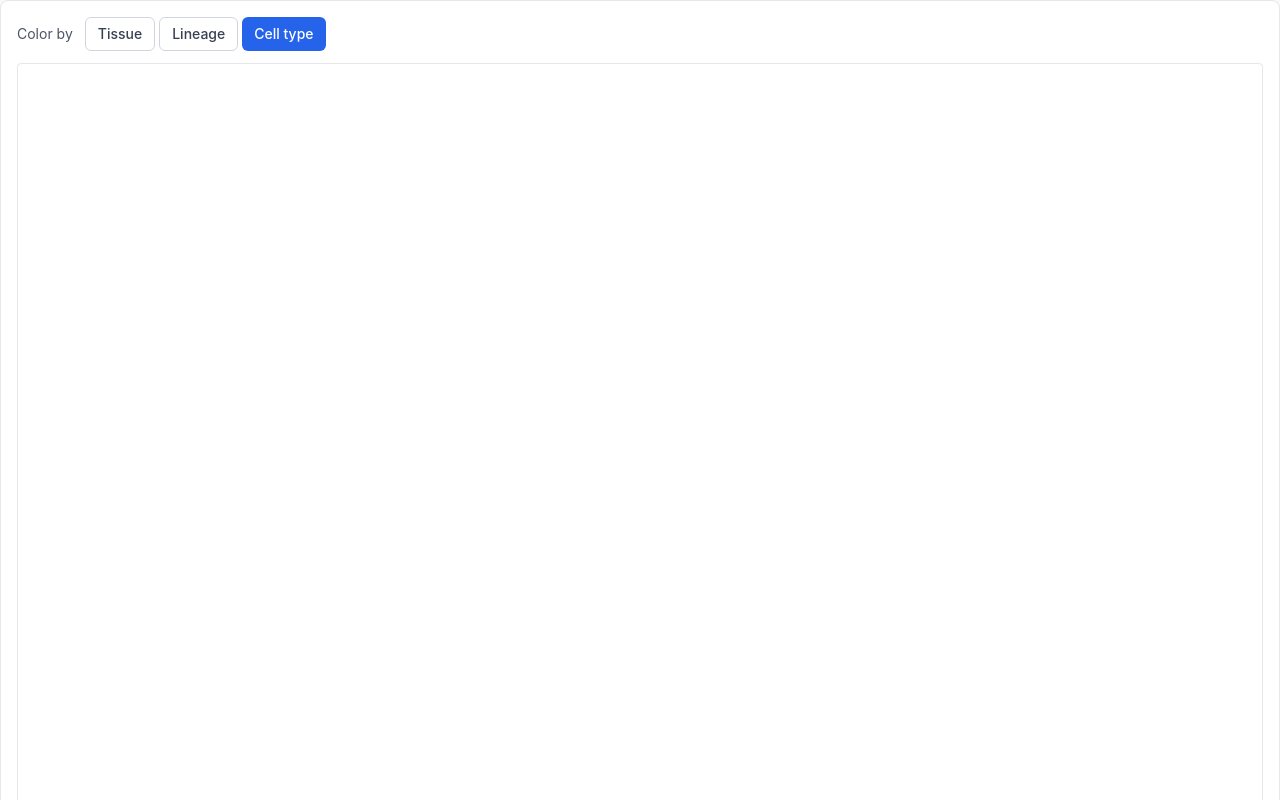
Test: AnnotationViewer › switches color mode to lineage and updates legend
Click the button with test id "level-btn-lineage" at (199, 34), box [159,17,238,51]
(page scrolled)
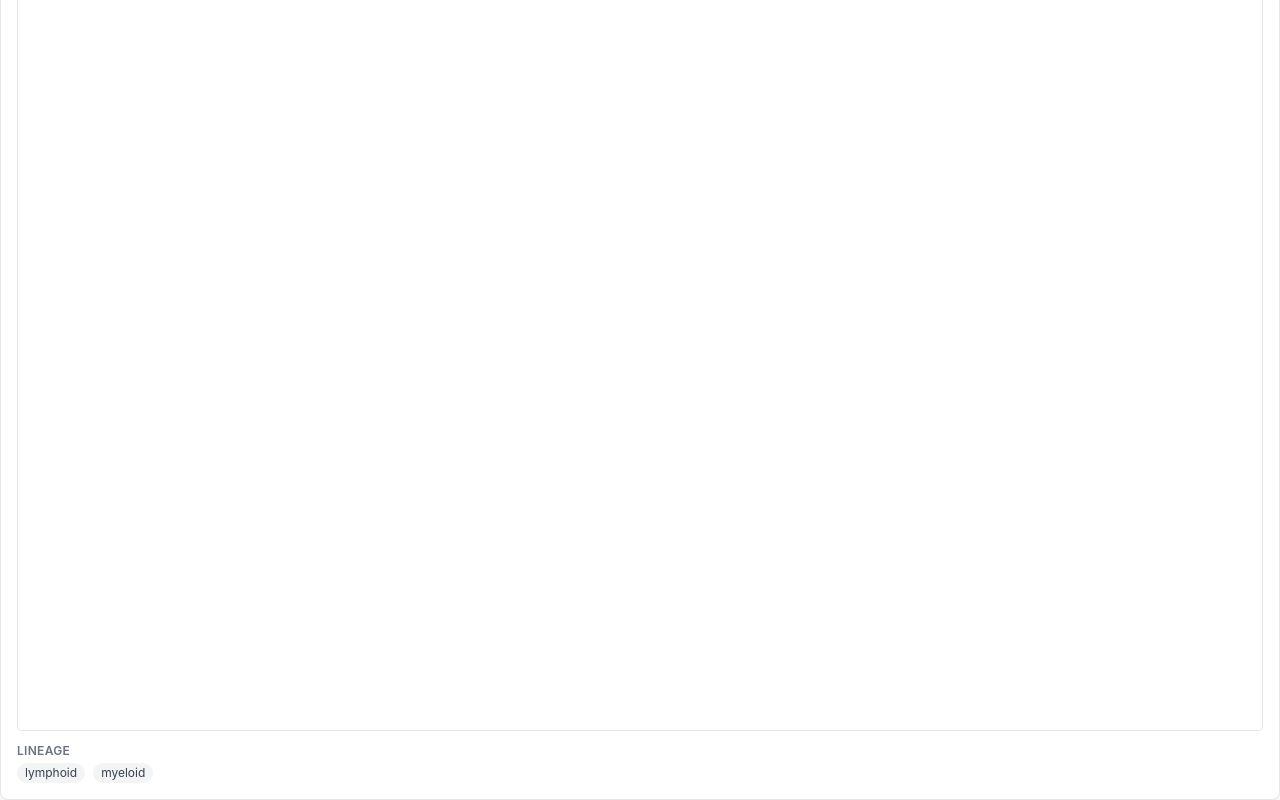
Check: the element with test id "annotation-legend" shows "myeloid", box [101,765,145,780]
Check: the element with test id "annotation-legend" shows "lymphoid", box [25,765,77,780]
